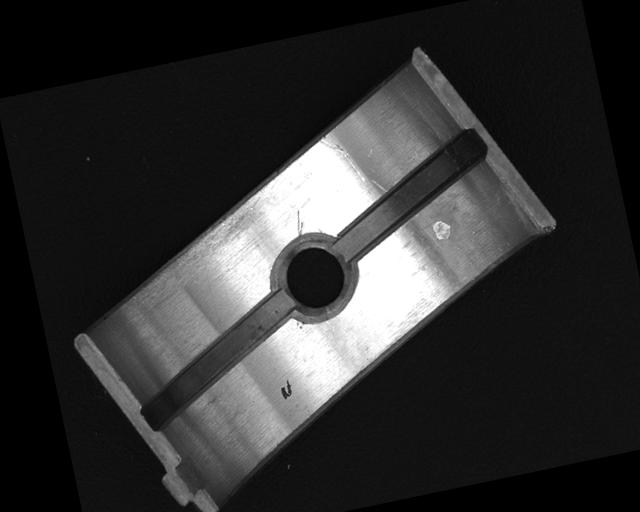blot: (278, 378, 295, 401)
bruise: (431, 217, 454, 243)
gap: (123, 290, 311, 430), (322, 131, 501, 258)
hole: (263, 232, 363, 328)
nick: (317, 128, 366, 191), (292, 208, 306, 237)
scratch: (106, 195, 273, 306)
